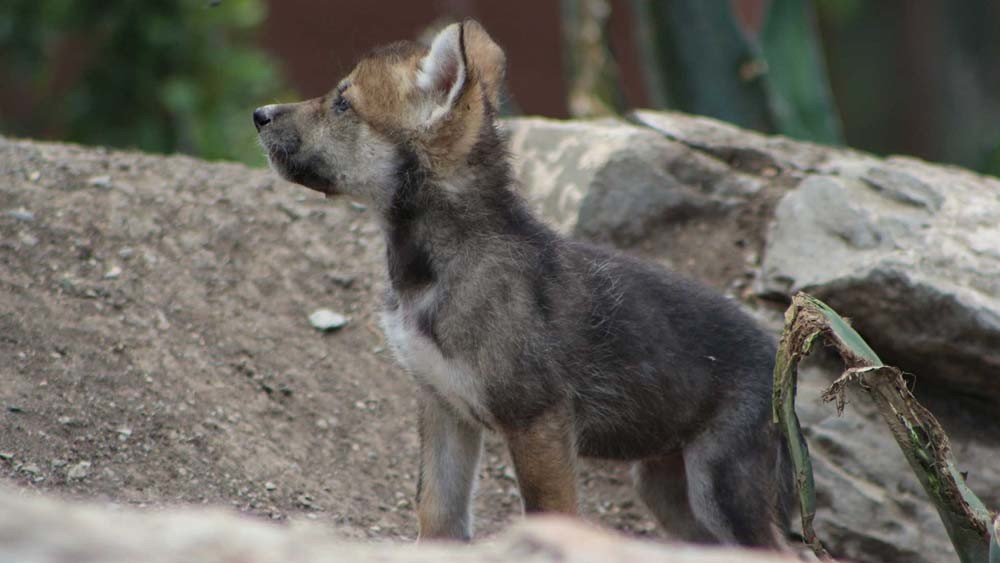Lobo: (228, 28, 798, 524)
